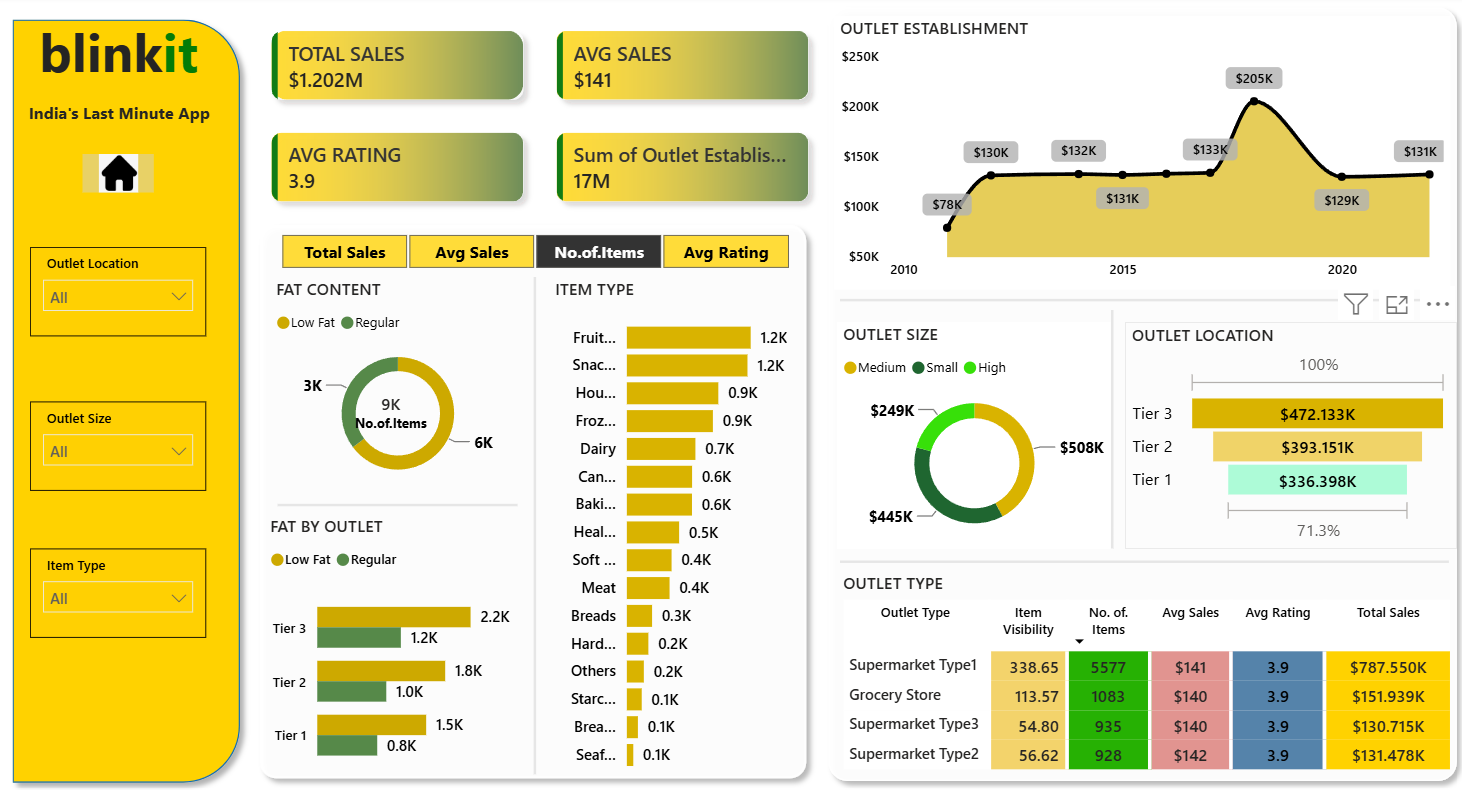

Layout of this report page (visuals, bound fields, positions):
{"tool":"powerbi","page":{"name":"Page 1","canvas":[1200,650],"ordinal":0},"visuals":[{"type":"shape","box":[5.7,11.4,203,638.8],"z":0},{"type":"textbox","box":[17,11.4,168.9,69.6],"z":1000},{"type":"textbox","box":[22.7,80.9,159,35.5],"z":2000},{"type":"cardVisual","fields":{"Data":["BlinkIT Grocery Data.Total Sales","BlinkIT Grocery Data.Avg Sales","BlinkIT Grocery Data.Avg Rating","Sum(BlinkIT Grocery Data.Outlet Establishment Year)"]},"box":[196.5,0,496.7,197.7],"z":3000},{"type":"shape","box":[207.2,178.3,462.3,468.1],"z":4000},{"type":"donutChart","title":"FAT CONTENT","fields":{"Y":["BlinkIT Grocery Data.No.of.Items"],"Category":["BlinkIT Grocery Data.Item Fat Content"]},"box":[225,229.4,207.4,176.5],"z":5000},{"type":"slicer","fields":{"Values":["Parameter.Parameter"]},"box":[208.8,188.2,461.8,41.2],"z":6000},{"type":"cardVisual","fields":{"Data":["BlinkIT Grocery Data.No.of.Items"]},"box":[262.3,307.2,121.7,63.8],"z":7000},{"type":"clusteredBarChart","title":"FAT BY OUTLET","fields":{"Y":["BlinkIT Grocery Data.No.of.Items"],"Category":["BlinkIT Grocery Data.Outlet Location Type"],"Series":["BlinkIT Grocery Data.Item Fat Content"]},"box":[219.1,422.1,220.6,220.6],"z":8000},{"type":"shape","box":[230.9,407.4,195.6,14.7],"z":9000},{"type":"shape","box":[408.8,230,62.5,404.6],"z":10000},{"type":"barChart","title":"ITEM TYPE","fields":{"Y":["BlinkIT Grocery Data.No.of.Items"],"Category":["BlinkIT Grocery Data.Item Type"]},"box":[451.5,229.4,198.5,411.8],"z":11000},{"type":"shape","box":[670.4,1.5,529.1,647.1],"z":12000},{"type":"lineChart","title":"OUTLET ESTABLISHMENT","fields":{"Y":["BlinkIT Grocery Data.Total Sales"],"Category":["BlinkIT Grocery Data.Outlet Establishment Year"]},"box":[682.8,17,501.1,222.9],"z":13000},{"type":"shape","box":[688.5,239.9,495.4,15.6],"z":14000},{"type":"donutChart","title":"OUTLET SIZE","fields":{"Y":["BlinkIT Grocery Data.Total Sales"],"Category":["BlinkIT Grocery Data.Outlet Size"]},"box":[685.7,265.5,222.9,184.5],"z":15000},{"type":"shape","box":[878.6,256.3,62.2,194],"z":16000},{"type":"funnel","title":"OUTLET LOCATION","fields":{"Y":["BlinkIT Grocery Data.Total Sales"],"Category":["BlinkIT Grocery Data.Outlet Location Type"]},"box":[919.9,265.5,269.7,184.5],"z":17000},{"type":"shape","box":[688.5,454.3,495.4,14.2],"z":18000},{"type":"pivotTable","title":"OUTLET TYPE","fields":{"Rows":["BlinkIT Grocery Data.Outlet Type"],"Values":["Sum(BlinkIT Grocery Data.Item Visibility)","BlinkIT Grocery Data.No.of.Items","BlinkIT Grocery Data.Avg Sales","BlinkIT Grocery Data.Avg Rating","BlinkIT Grocery Data.Total Sales"]},"box":[685.7,468.5,503.9,166.1],"z":19000},{"type":"slicer","fields":{"Values":["BlinkIT Grocery Data.Outlet Location Type"]},"box":[29.8,204.4,143.4,72.4],"z":20000},{"type":"slicer","fields":{"Values":["BlinkIT Grocery Data.Outlet Size"]},"box":[29.8,330.8,143.4,72.4],"z":21000},{"type":"slicer","fields":{"Values":["BlinkIT Grocery Data.Item Type"]},"box":[29.8,450,143.4,72.4],"z":22000},{"type":"image","box":[72.4,129.2,58.2,31.2],"z":23000}]}

Visuals, with their boxes in screenshot pixels (x1, y1, x2, y2), scaled from the page's 1200x650 canvas onto the 1462x790 screenshot:
shape: bbox=(7, 14, 254, 789)
textbox: bbox=(21, 14, 226, 98)
textbox: bbox=(28, 98, 221, 141)
cardVisual - BlinkIT Grocery Data.Total Sales x BlinkIT Grocery Data.Avg Sales: bbox=(239, 0, 845, 240)
shape: bbox=(252, 217, 816, 786)
"FAT CONTENT" donutChart: bbox=(274, 279, 527, 493)
slicer - Parameter.Parameter: bbox=(254, 229, 817, 279)
cardVisual - BlinkIT Grocery Data.No.of.Items: bbox=(320, 373, 468, 451)
"FAT BY OUTLET" clusteredBarChart: bbox=(267, 513, 536, 781)
shape: bbox=(281, 495, 520, 513)
shape: bbox=(498, 280, 574, 771)
"ITEM TYPE" barChart: bbox=(550, 279, 792, 779)
shape: bbox=(817, 2, 1461, 788)
"OUTLET ESTABLISHMENT" lineChart: bbox=(832, 21, 1442, 292)
shape: bbox=(839, 292, 1442, 311)
"OUTLET SIZE" donutChart: bbox=(835, 323, 1107, 547)
shape: bbox=(1070, 312, 1146, 547)
"OUTLET LOCATION" funnel: bbox=(1121, 323, 1449, 547)
shape: bbox=(839, 552, 1442, 569)
"OUTLET TYPE" pivotTable: bbox=(835, 569, 1449, 771)
slicer - BlinkIT Grocery Data.Outlet Location Type: bbox=(36, 248, 211, 336)
slicer - BlinkIT Grocery Data.Outlet Size: bbox=(36, 402, 211, 490)
slicer - BlinkIT Grocery Data.Item Type: bbox=(36, 547, 211, 635)
image: bbox=(88, 157, 159, 195)
